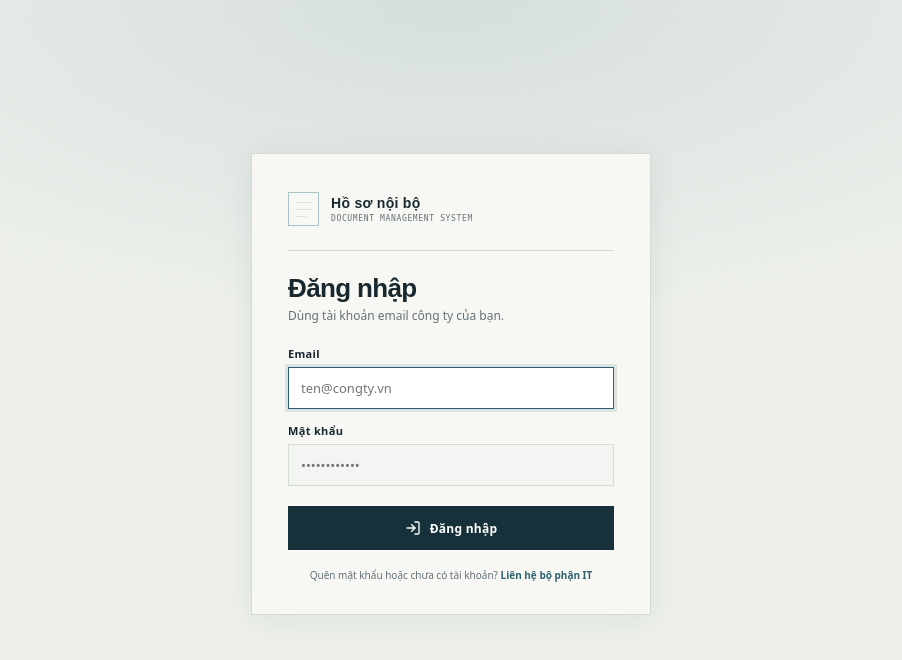
Scenario: LoginPage › hiển thị lỗi khi submit không có password
The width and height of the screenshot is (902, 660).
In the field labelled "Email": (451, 388) [288,367,614,409], type "user@test.vn"
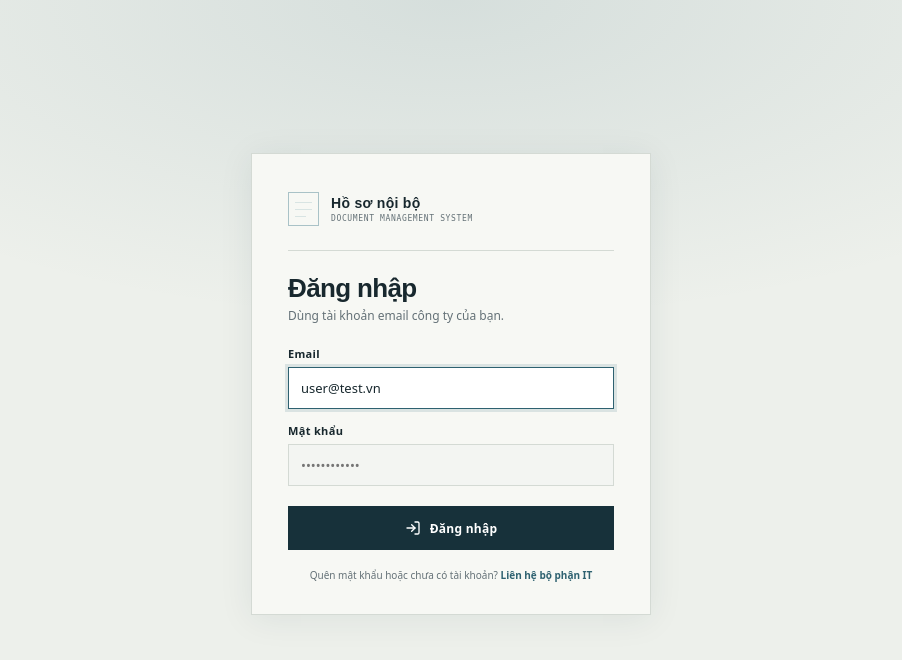
Click the button "Đăng nhập": click(451, 528) [288,506,614,550]
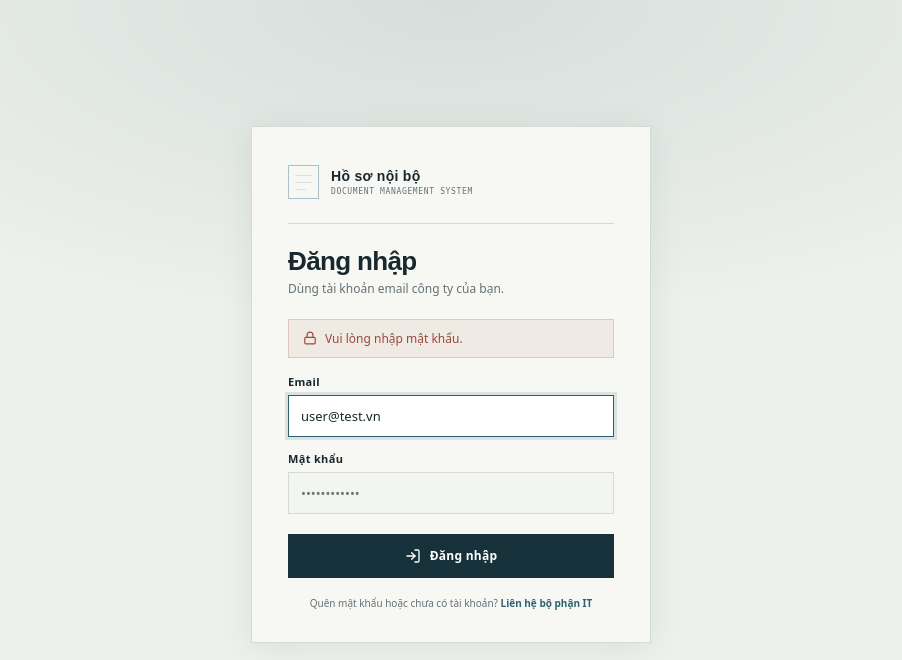
expect the message "Vui lòng nhập mật khẩu." is shown: met, box [288,318,614,358]
